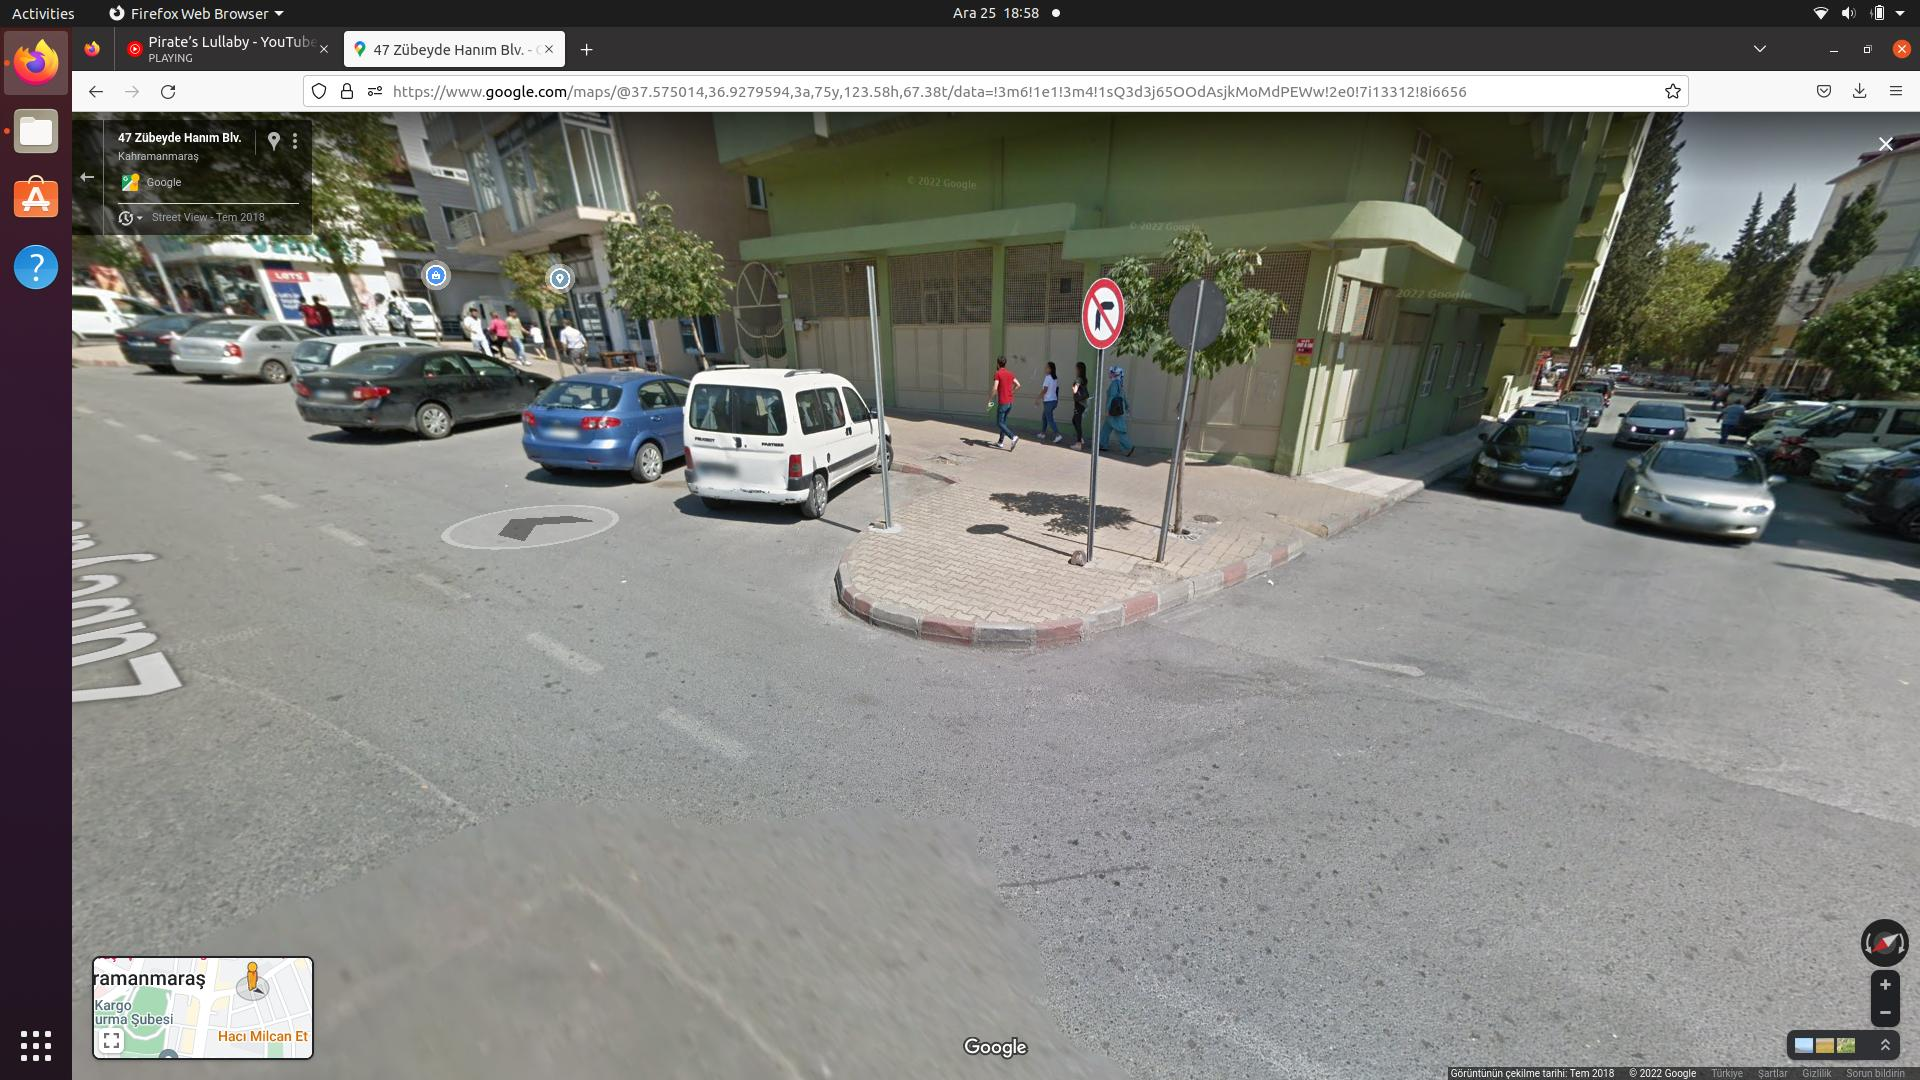rightturnsareforbidden: (1085, 278, 1122, 348)
